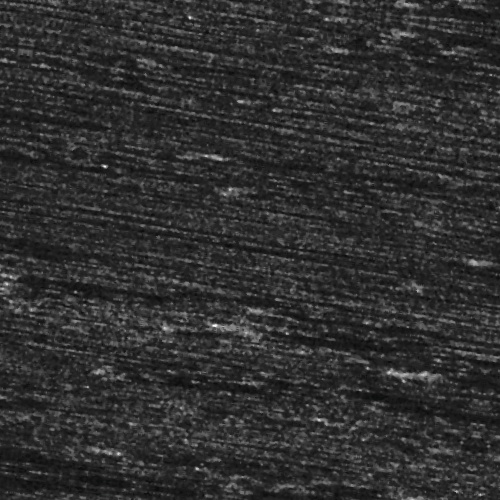object: (261, 300, 314, 309), (0, 300, 43, 309), (202, 156, 255, 163), (61, 492, 102, 499)
shadow: (228, 156, 500, 163), (0, 182, 138, 195), (288, 300, 475, 309), (16, 300, 194, 309), (82, 492, 253, 499), (0, 229, 55, 234)
